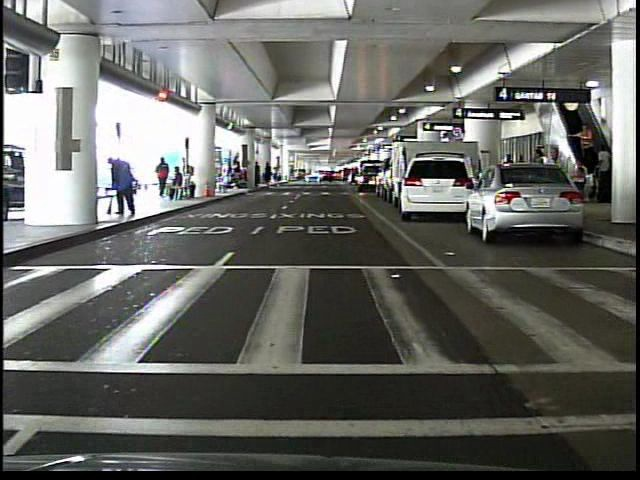person: (107, 151, 140, 220), (573, 120, 598, 169), (594, 143, 613, 195)
